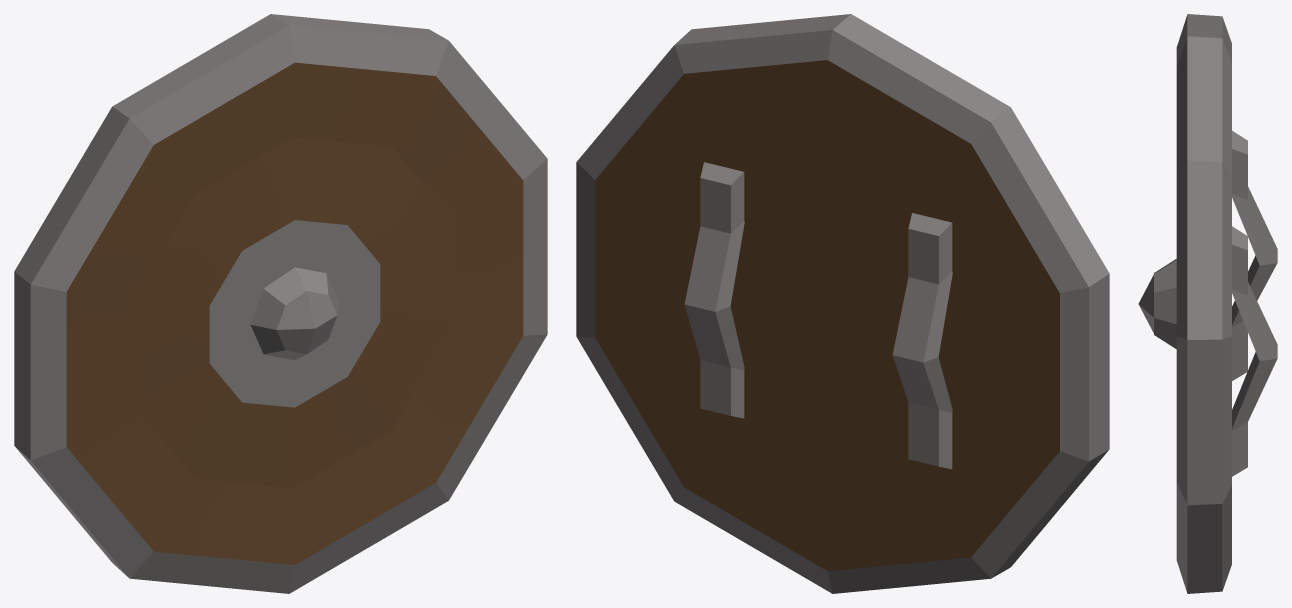
Rendered from medieval_shield-round-wood.fbx.
3 renders of one model, left to right at view 1: azimuth 30°, elevation 25°; view 2: azimuth 150°, elevation 25°; view 3: azimuth 270°, elevation 25°, orthographic. The views are drawn at different scales.
Parts seen in each view (by area): view 1: medieval_shield_round_wood; view 2: medieval_shield_round_wood; view 3: medieval_shield_round_wood.
Part boxes in pixels (left/top/right/bottom): medieval_shield_round_wood: left=14, top=14, right=547, bottom=593; medieval_shield_round_wood: left=576, top=14, right=1109, bottom=593; medieval_shield_round_wood: left=1138, top=14, right=1277, bottom=593.
Size of the model in its own units: 190 by 200 by 47.12.
